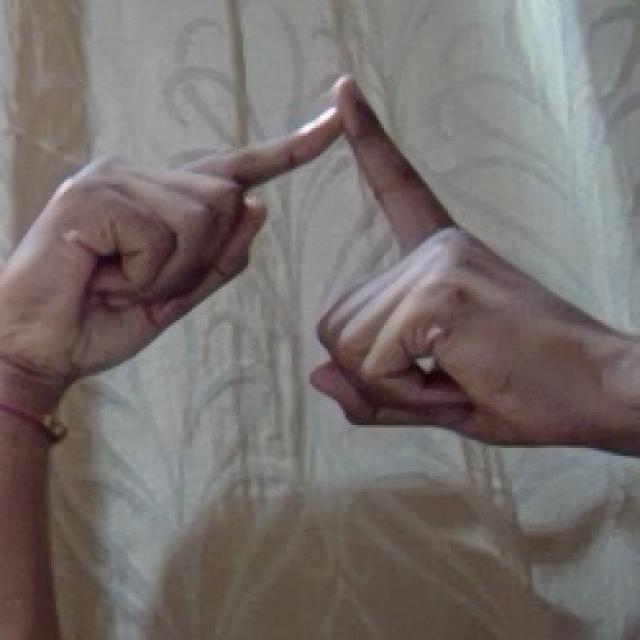Alphabet-E: (0, 77, 640, 640)
